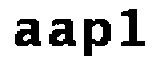1: (119, 7, 151, 50)
a: (10, 16, 46, 52), (46, 18, 80, 52)
p: (79, 17, 114, 60)
